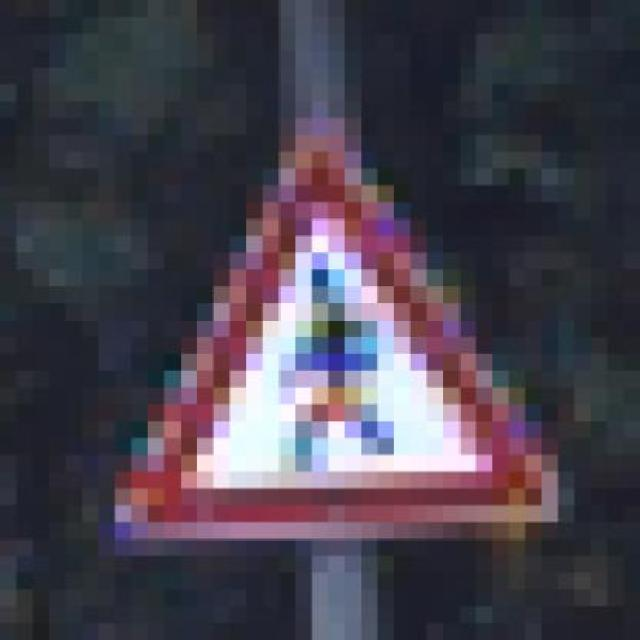Pedestrian Crossing: (98, 111, 574, 566)
